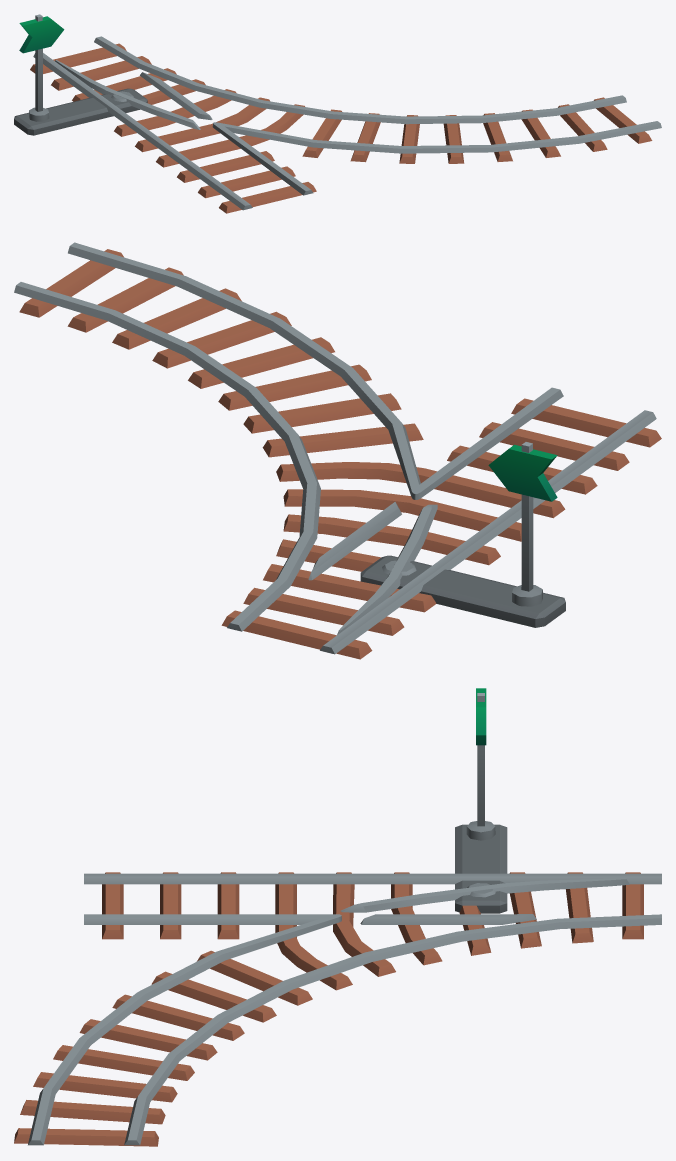
Rendered from tracks_split_left.fbx.
3 renders of one model, top to bottom at view 1: azimuth 30°, elevation 25°; view 2: azimuth 150°, elevation 25°; view 3: azimuth 270°, elevation 25°, orthographic. The views are drawn at different scales.
Visible parts, largest first — view 1: tracks_split_left, tracks_split_left_arrow, tracks_split_left_part; view 2: tracks_split_left, tracks_split_left_arrow, tracks_split_left_part; view 3: tracks_split_left, tracks_split_left_arrow, tracks_split_left_part.
Boxes of the visible parts, bbox=[...] form: tracks_split_left: bbox=[14, 36, 661, 213]; tracks_split_left_arrow: bbox=[19, 14, 64, 121]; tracks_split_left_part: bbox=[55, 60, 133, 101]; tracks_split_left: bbox=[14, 242, 661, 659]; tracks_split_left_arrow: bbox=[488, 442, 557, 606]; tracks_split_left_part: bbox=[337, 560, 416, 634]; tracks_split_left: bbox=[14, 824, 661, 1146]; tracks_split_left_arrow: bbox=[466, 688, 495, 840]; tracks_split_left_part: bbox=[467, 878, 629, 897].
Size of the model in its own units: 2.62 by 0.575 by 2.24.
